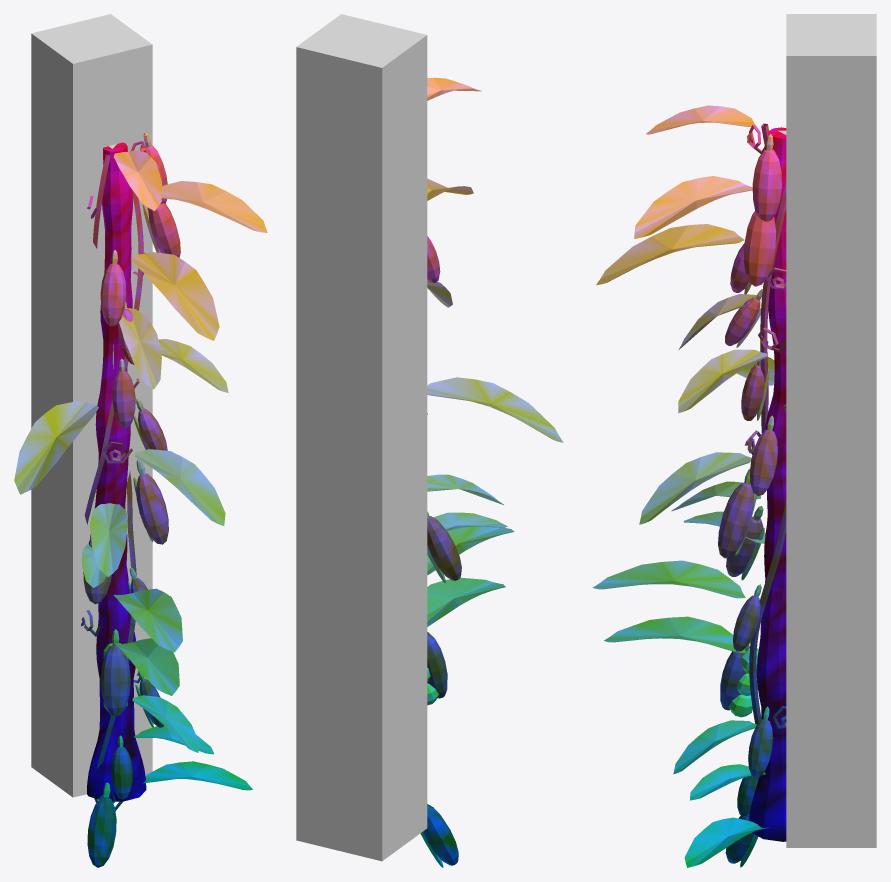
The model's file is Plant_Ladder_01.fbx.
3 renders of one model, left to right at view 1: azimuth 30°, elevation 25°; view 2: azimuth 150°, elevation 25°; view 3: azimuth 270°, elevation 25°, orthographic. The views are drawn at different scales.
Visible parts, largest first — view 1: CLIMB_0, Plant_Ladder_01; view 2: CLIMB_0, Plant_Ladder_01; view 3: CLIMB_0, Plant_Ladder_01.
Boxes of the visible parts, bbox=[...] form: CLIMB_0: bbox=[31, 14, 152, 797]; Plant_Ladder_01: bbox=[14, 132, 267, 867]; CLIMB_0: bbox=[296, 14, 427, 861]; Plant_Ladder_01: bbox=[420, 77, 563, 867]; CLIMB_0: bbox=[786, 14, 876, 847]; Plant_Ladder_01: bbox=[592, 105, 786, 867].
Bounding box in the file's own units: 3.1 × 10.41 × 3.15.
